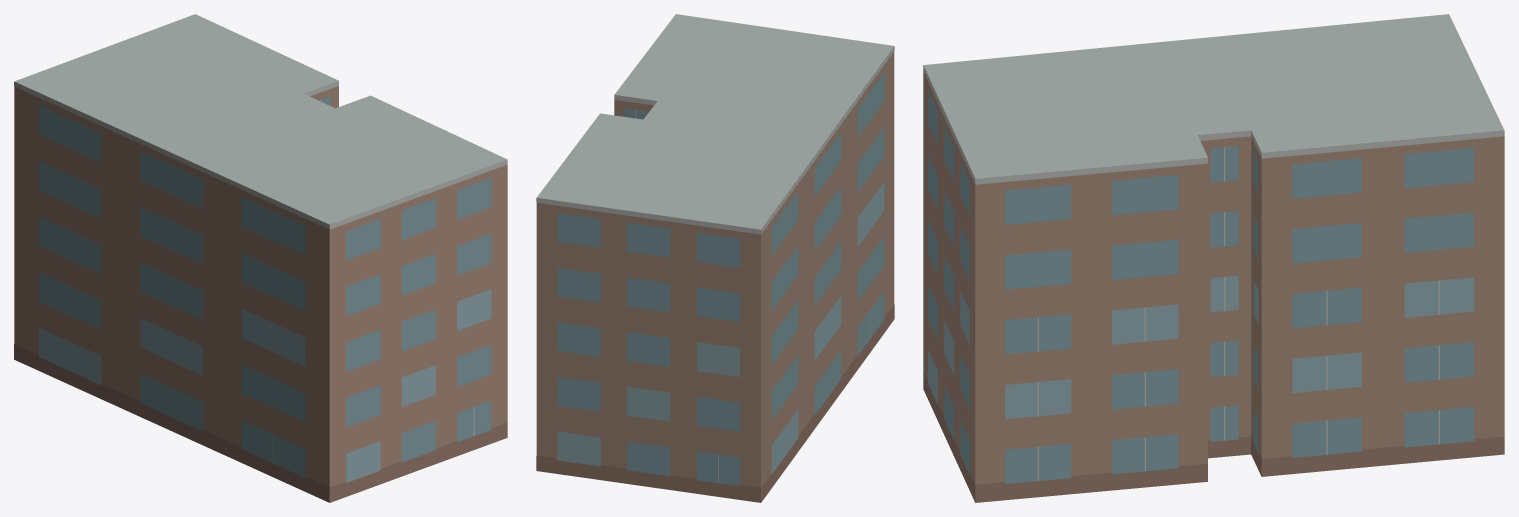
Rendered from survey-upis-32815841.glb.
3 views of the same model, side by side, from view 1: azimuth 30°, elevation 25°; view 2: azimuth 150°, elevation 25°; view 3: azimuth 270°, elevation 25° (orthographic). The views are drawn at different scales.
Visible parts, largest first — view 1: survey-upis-32815841.tmp; view 2: survey-upis-32815841.tmp; view 3: survey-upis-32815841.tmp.
Part boxes in pixels (x1,y1,x2,y2): survey-upis-32815841.tmp: (14, 14, 507, 502); survey-upis-32815841.tmp: (536, 14, 894, 502); survey-upis-32815841.tmp: (923, 14, 1504, 502).
Bounding box in the file's own units: 14.64 × 13.4 × 21.8.
